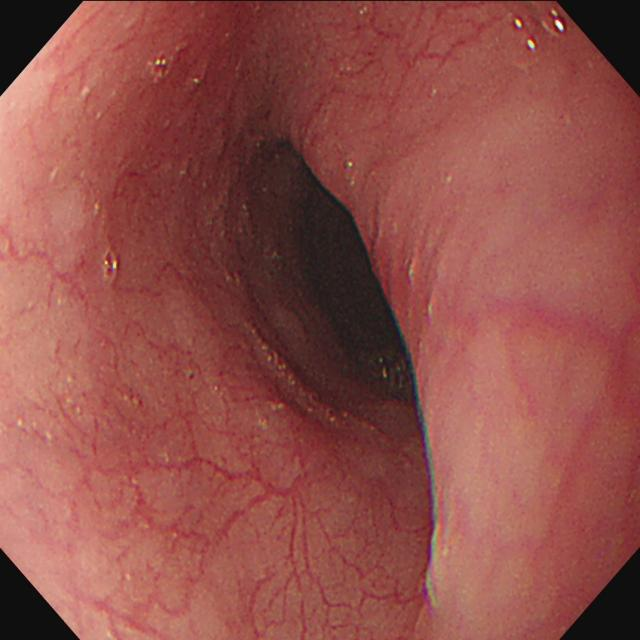E: (299, 182, 415, 399)
